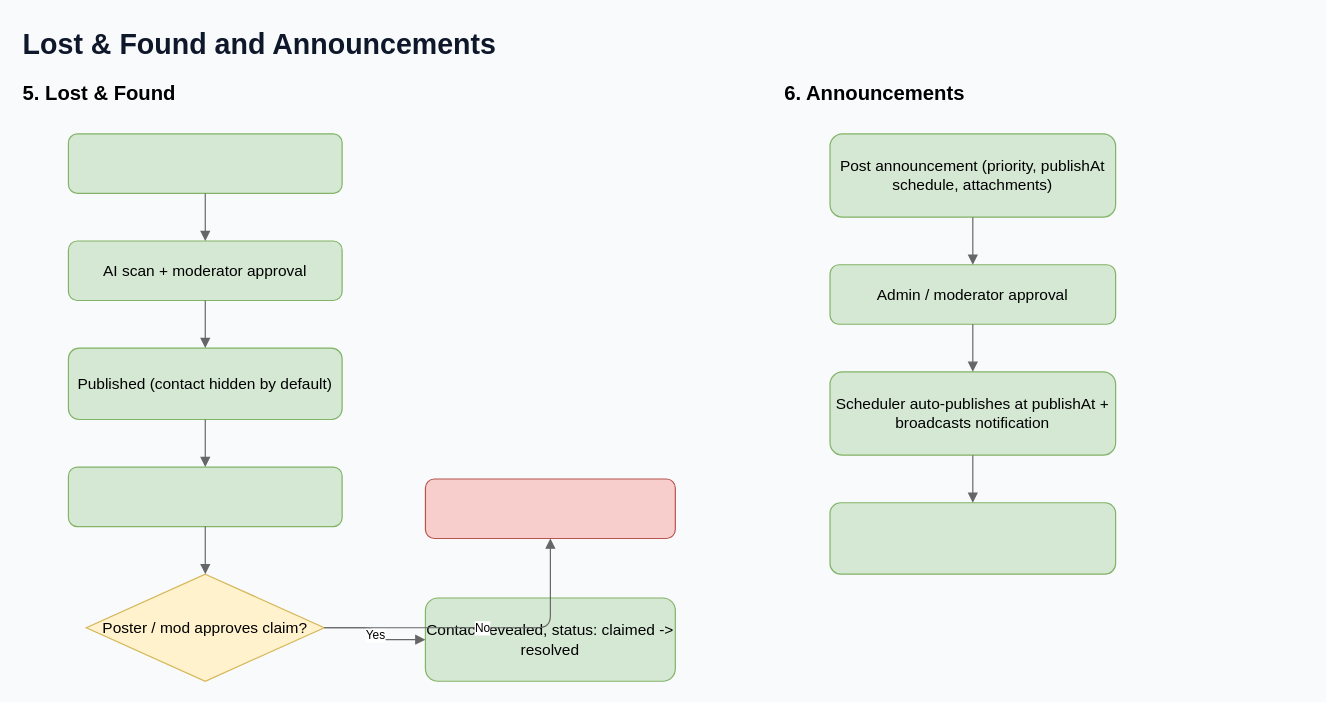
The diagram is 1326 pixels wide and 702 high, and some of its shapes have lost their labels. The shapes that lost their labels are listed below. From the top down, each one's centre as x and y in pixels, then its label:
At pixel 204 163: "Post lost / found item (+ photo)".
At pixel 204 496: "Another user files a claim (+ note)".
At pixel 549 508: "Claim rejected — item stays open".
At pixel 972 538: "Students read (readBy), pin, auto-archive at expiresAt".
